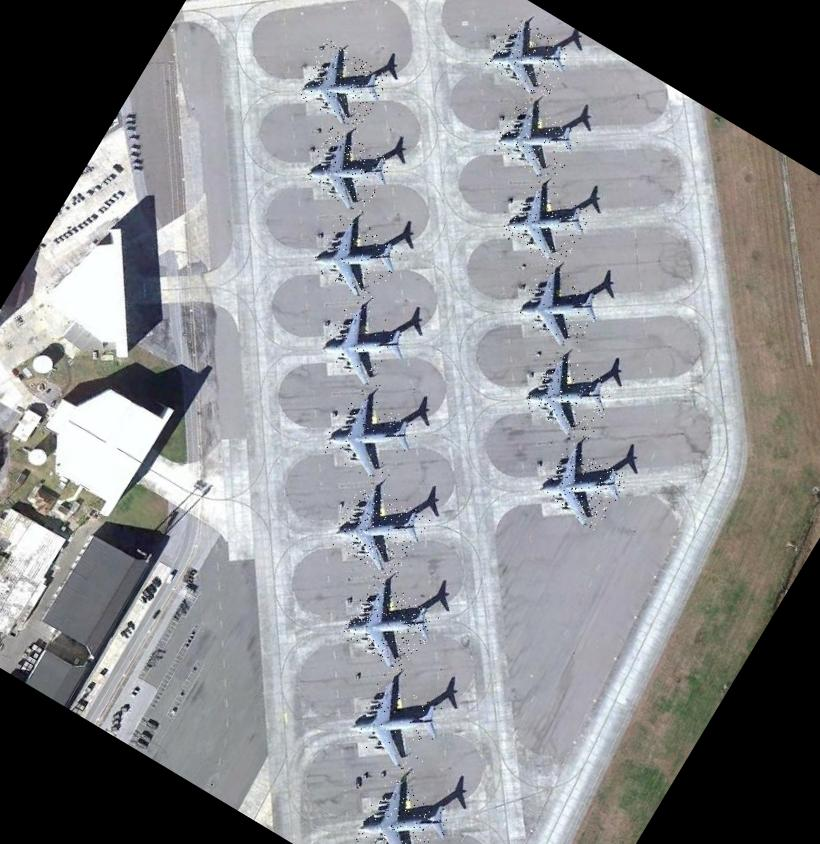A3: (344, 672, 450, 776), (327, 479, 431, 582), (338, 574, 441, 676), (318, 387, 421, 488), (292, 38, 390, 132), (522, 350, 619, 444), (308, 211, 406, 304), (512, 262, 610, 354), (498, 178, 594, 271), (317, 298, 412, 390), (300, 124, 394, 216), (536, 441, 631, 532), (490, 96, 584, 186), (484, 15, 574, 102), (349, 774, 457, 844)
